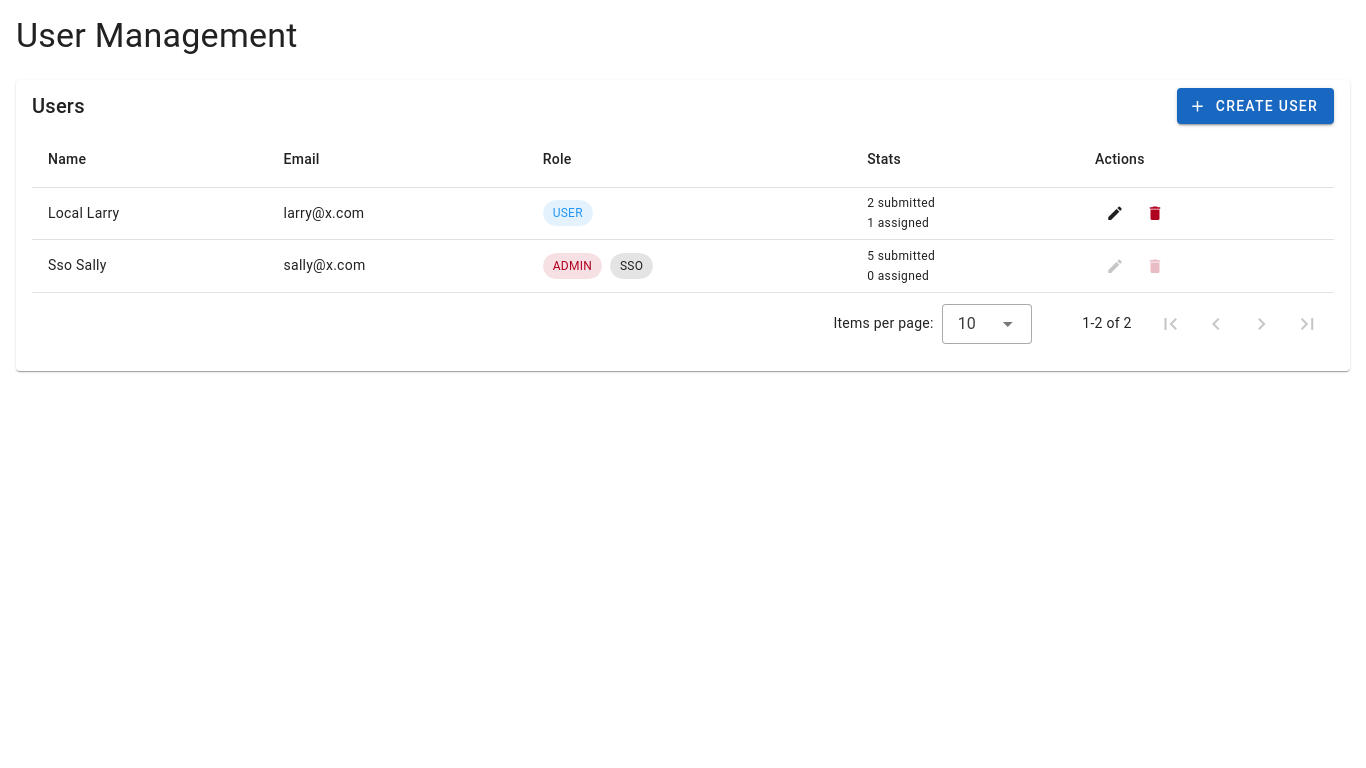
Test: UsersPage › opens the delete dialog when the LOCAL user delete button is clicked
This screenshot has width=1366, height=768.
Click the 3rd button at (1155, 213), box [1135,193,1175,233]
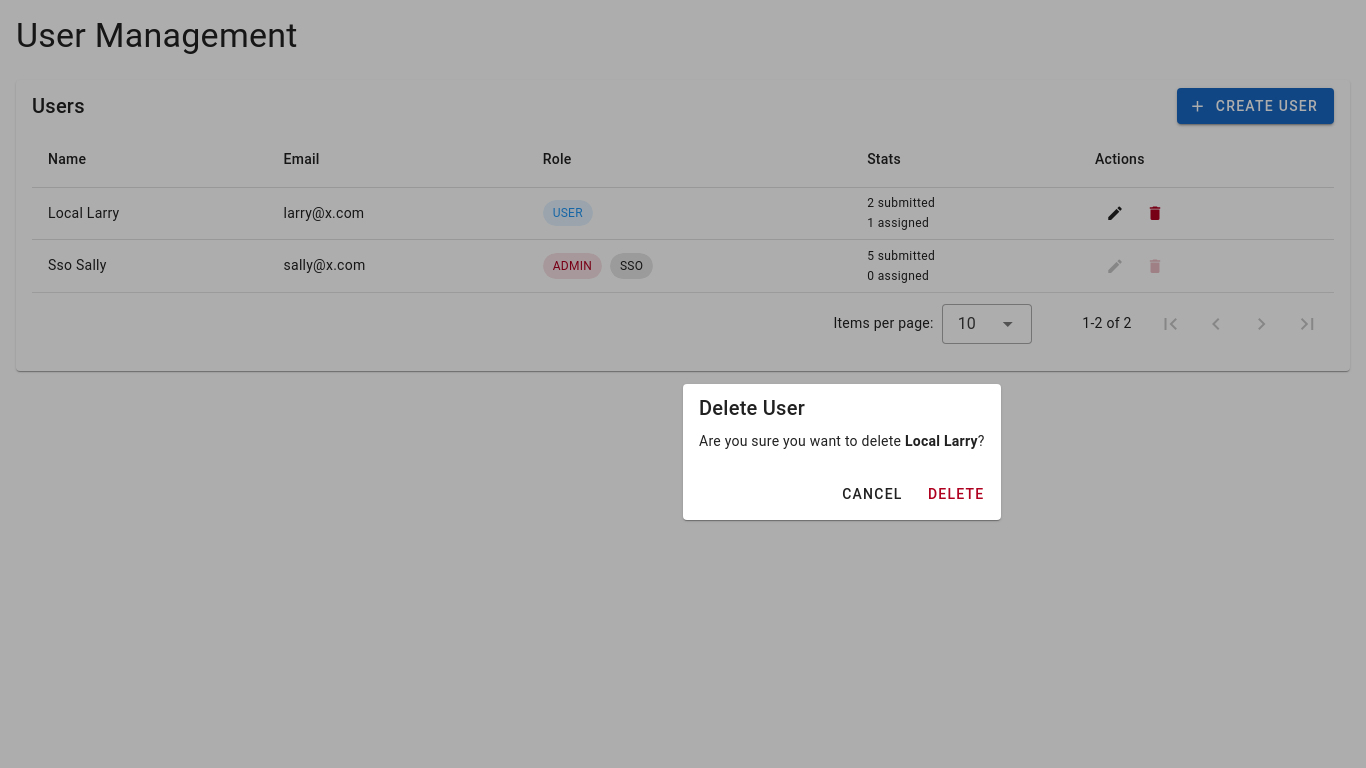
expect the text "Delete User" is shown: met, box [699,396,805,420]
